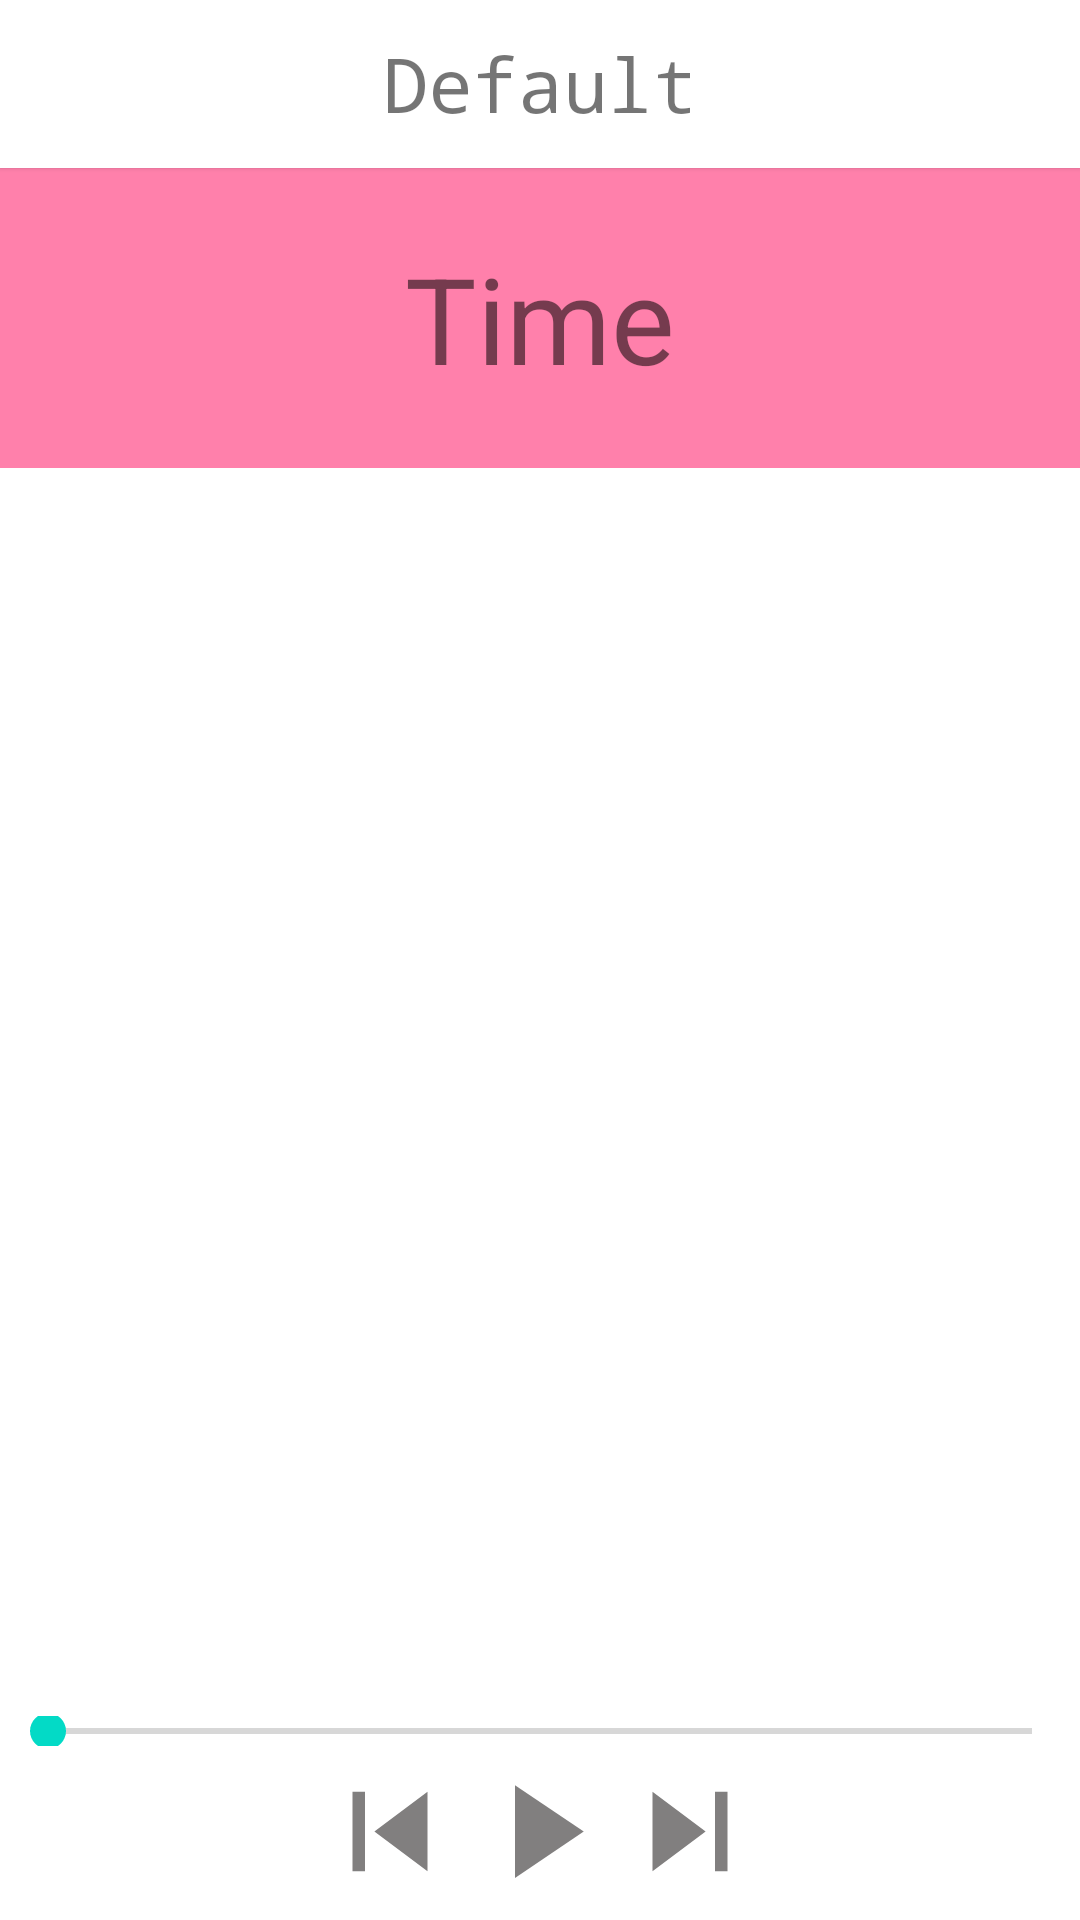

Named icons in this screenshot (1080px×1920px) and their bounding boxes, (x1, y1, x2, y2):
next: (652, 1791, 728, 1872)
play: (515, 1785, 584, 1878)
previus: (352, 1791, 428, 1872)
